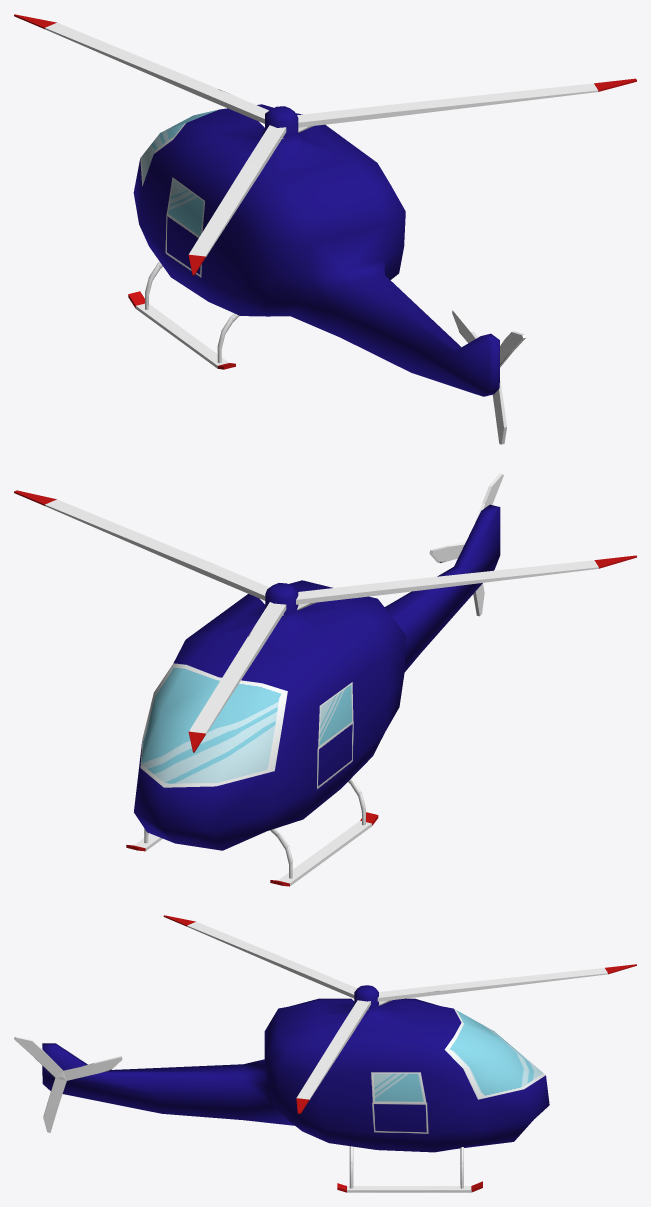
File: helicopter.fbx
3 views of the same model, one above another, from view 1: azimuth 30°, elevation 25°; view 2: azimuth 150°, elevation 25°; view 3: azimuth 270°, elevation 25° (orthographic). The views are drawn at different scales.
Parts seen in each view (by area): view 1: polySurface8, polySurface9, polySurface14; view 2: polySurface8, polySurface9, polySurface14; view 3: polySurface8, polySurface9, polySurface14.
Boxes of the visible parts, x1,y1,x2,y2 form: polySurface8: (128, 104, 499, 396); polySurface9: (14, 14, 636, 275); polySurface14: (452, 309, 526, 444); polySurface8: (126, 504, 500, 886); polySurface9: (14, 490, 636, 752); polySurface14: (429, 473, 503, 616); polySurface8: (42, 985, 549, 1192); polySurface9: (163, 915, 636, 1114); polySurface14: (14, 1036, 122, 1132).
Size of the model in its own units: 18.87 by 7.78 by 25.12.
